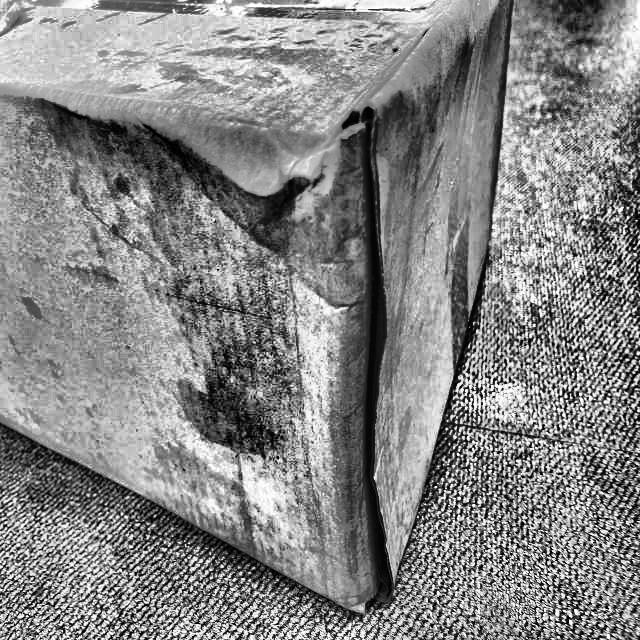box: (0, 0, 518, 628)
wet: (86, 18, 441, 594)
